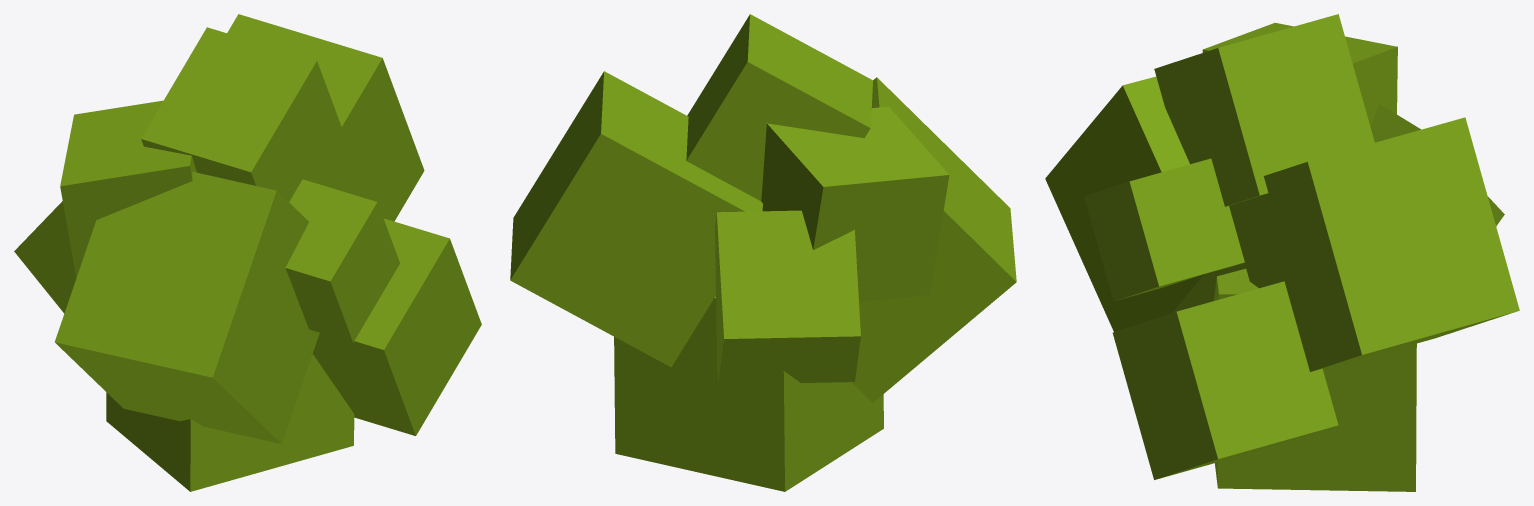
The model's file is tree-summer-leaves-016.glb.
3 views of the same model, side by side, from view 1: azimuth 30°, elevation 25°; view 2: azimuth 150°, elevation 25°; view 3: azimuth 270°, elevation 25° (orthographic). The views are drawn at different scales.
Parts seen in each view (by area): view 1: Cube.011_240; view 2: Cube.011_240; view 3: Cube.011_240.
Part boxes in pixels (x1,y1,x2,y2): Cube.011_240: (14, 14, 481, 491); Cube.011_240: (510, 14, 1016, 491); Cube.011_240: (1045, 14, 1519, 491).
Bounding box in the file's own units: 1.31 × 1.13 × 1.14.
